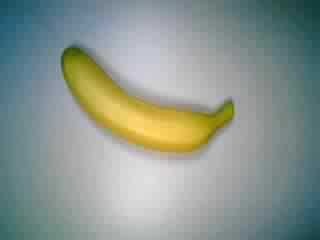banana: (58, 42, 240, 156)
